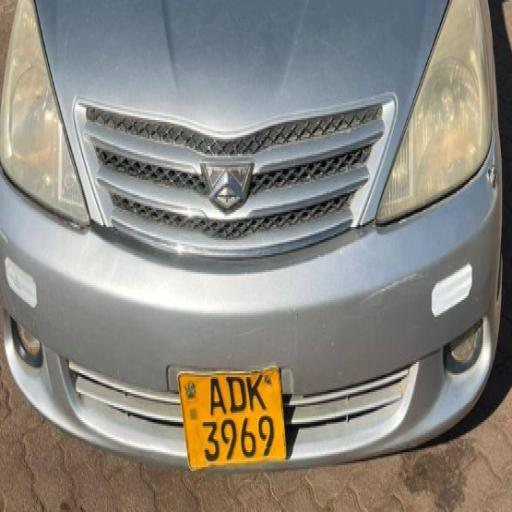number-plates: (178, 371, 280, 460)
